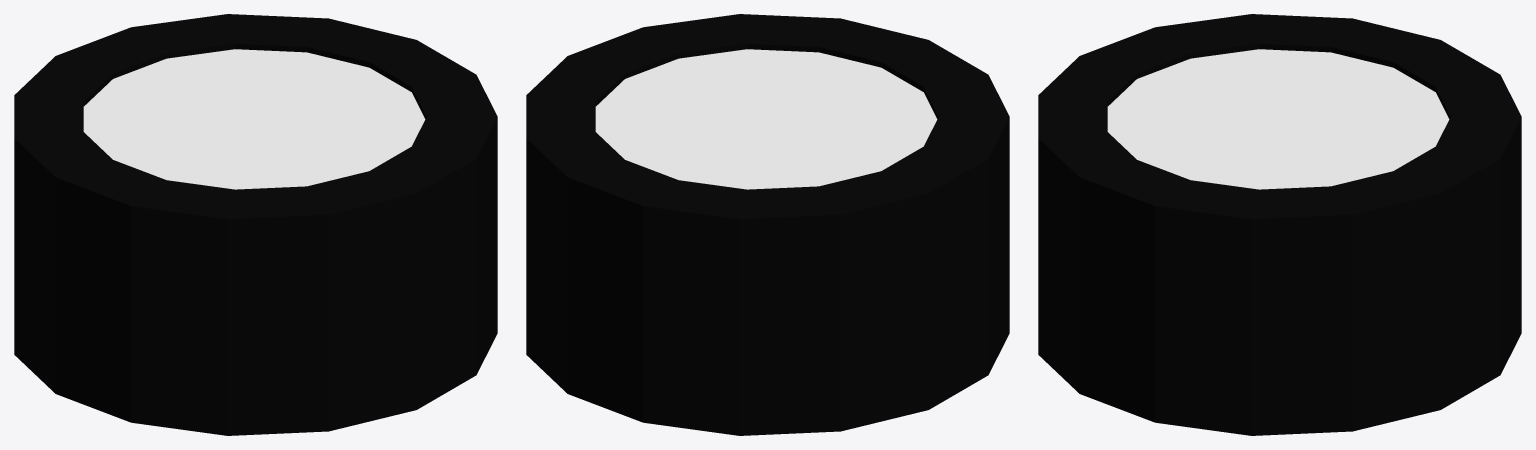
The model's file is ArretMetro.fbx.
The picture shows the model from 3 angles, left to right: view 1: azimuth 30°, elevation 25°; view 2: azimuth 150°, elevation 25°; view 3: azimuth 270°, elevation 25°; orthographic projection.
Parts seen in each view (by area): view 1: tube, cylinder; view 2: tube, cylinder; view 3: tube, cylinder.
Part boxes in pixels (x1,y1,x2,y2): tube: [14, 14, 497, 435]; cylinder: [83, 49, 425, 189]; tube: [526, 14, 1009, 435]; cylinder: [595, 49, 937, 189]; tube: [1038, 14, 1521, 435]; cylinder: [1107, 49, 1449, 189].
Bounding box in the file's own units: 102 × 50 × 101.
Materials: 1 (1 with a texture image).
